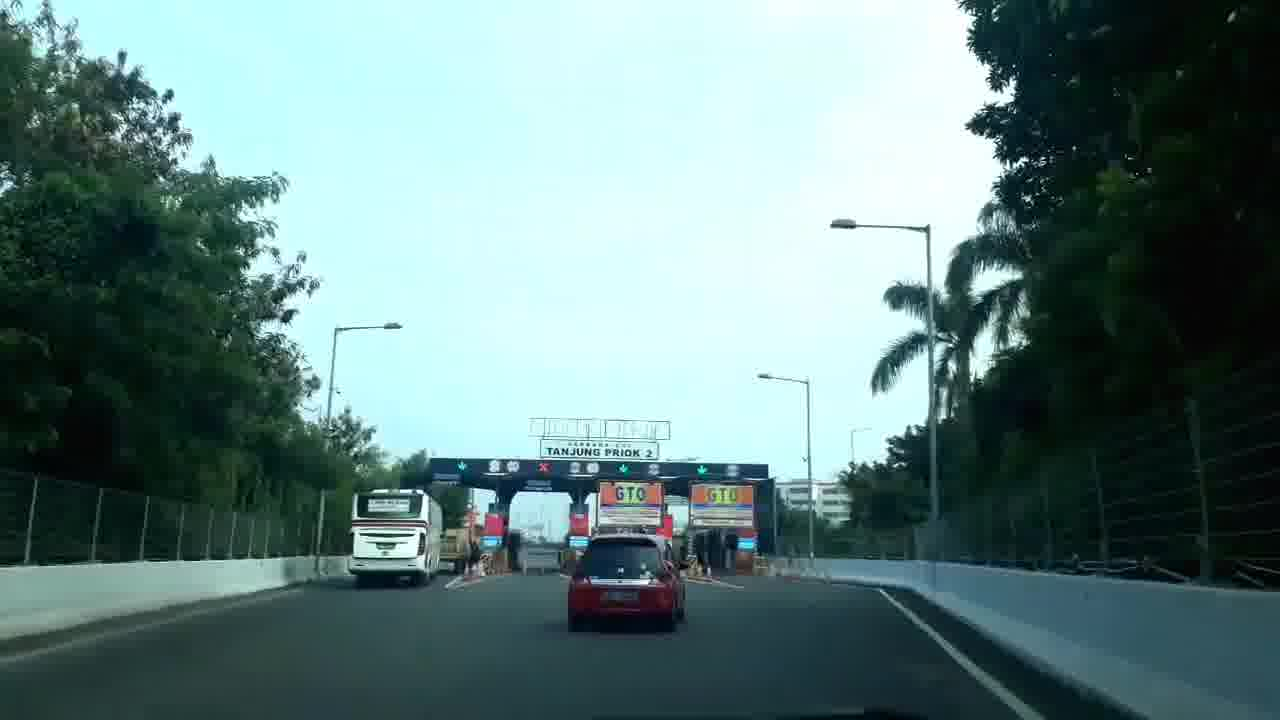plate_positive: (600, 591, 640, 603)
